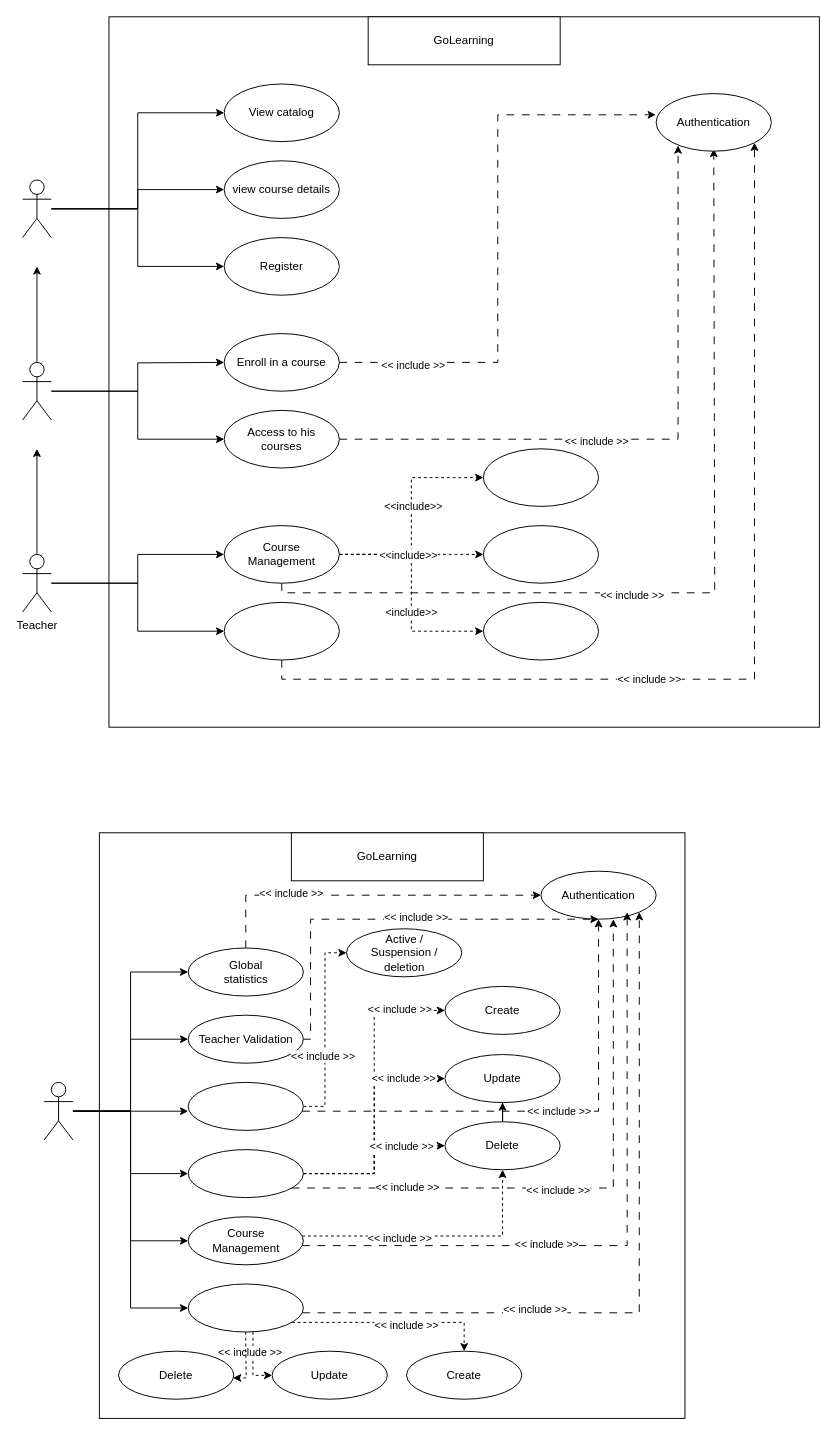
Image size: 836x1435. Some labels were removed from this diagram. Each missing label, with the box of its shape:
Access to his statistics: (223, 601, 339, 660)
Add Course: (482, 448, 599, 506)
Admin: (43, 1081, 73, 1140)
Category Management: (187, 1149, 303, 1198)
Delete Course: (482, 601, 599, 660)
Geust: (22, 179, 51, 238)
Student: (22, 361, 51, 420)
Tag Management: (187, 1283, 303, 1332)
Update Course: (482, 525, 599, 583)
User Management: (187, 1081, 303, 1130)
